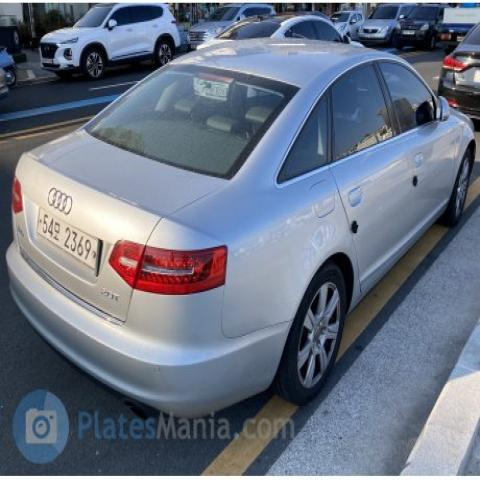LP: (30, 196, 107, 278)
